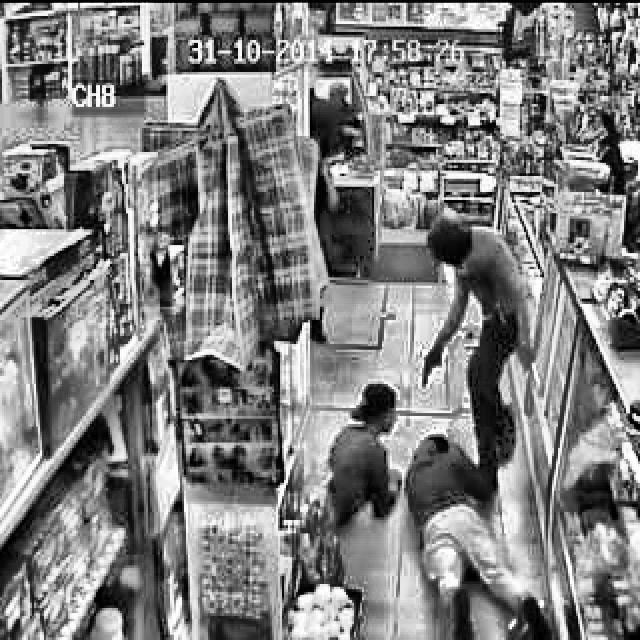robbery: (310, 378, 557, 639), (418, 214, 540, 486)
